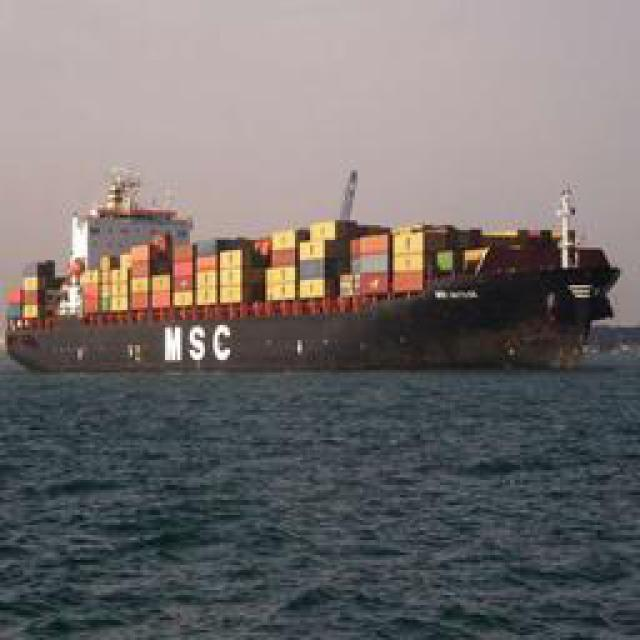Ship: (1, 144, 633, 386)
